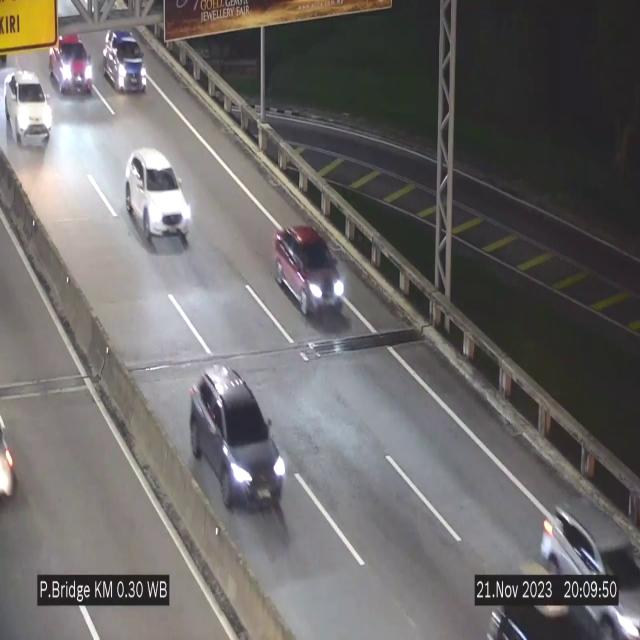Car: (543, 487, 640, 640), (190, 366, 287, 508), (480, 563, 599, 640), (274, 225, 346, 322), (125, 148, 191, 248), (46, 22, 96, 102), (5, 72, 51, 148), (103, 29, 147, 92)
